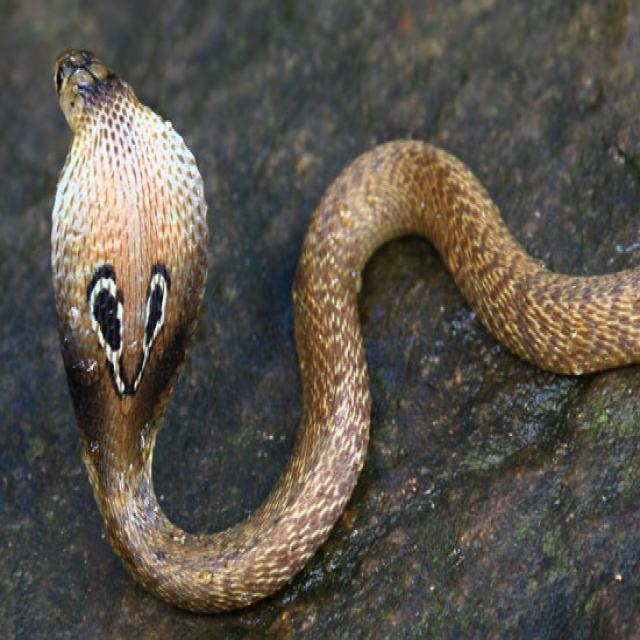Snake: (48, 44, 639, 614)
